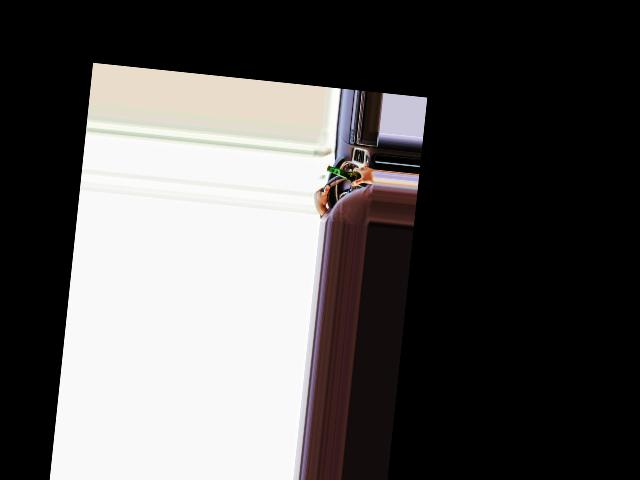beer: (325, 164, 373, 189)
